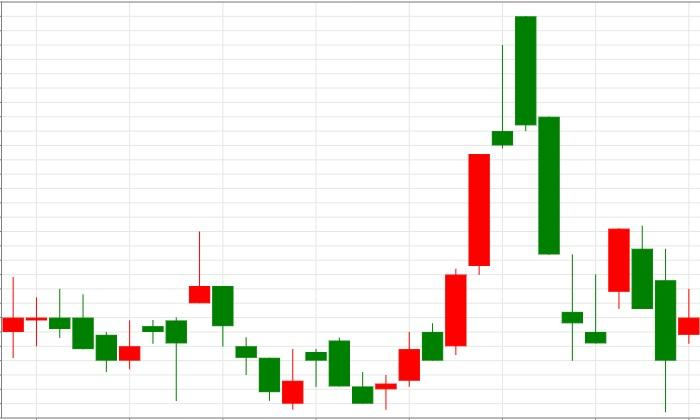shooting_star_fall: (118, 231, 211, 401)
three_black_crows_fall: (351, 17, 584, 410)
